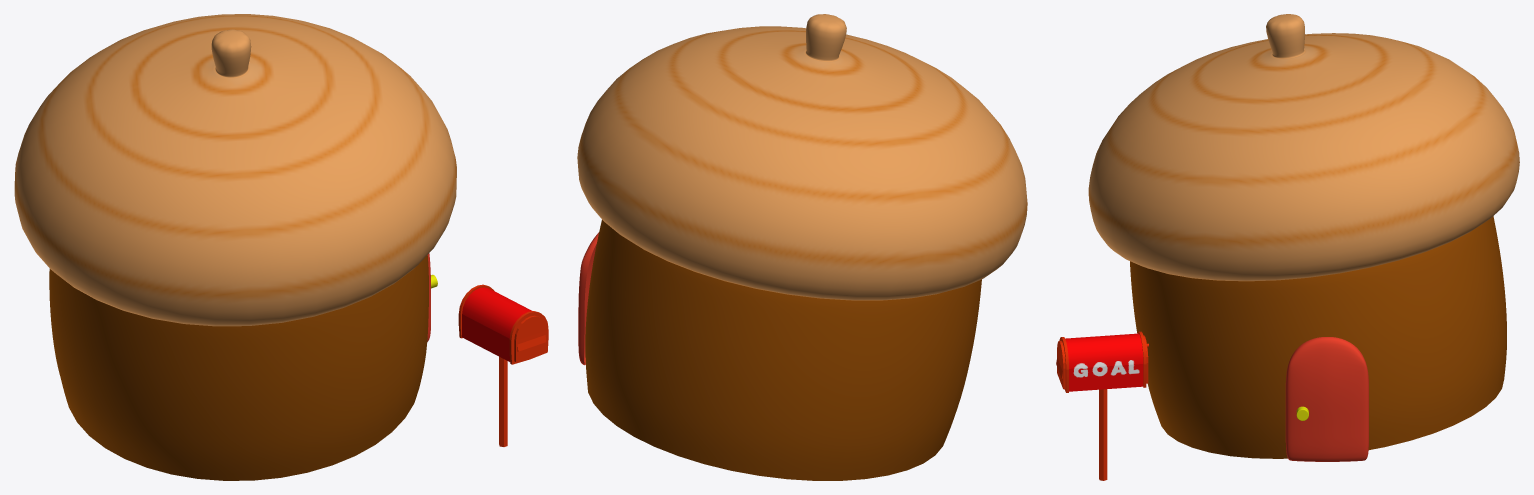
File: donguri.fbx
3 renders of one model, left to right at view 1: azimuth 30°, elevation 25°; view 2: azimuth 150°, elevation 25°; view 3: azimuth 270°, elevation 25°, orthographic. The views are drawn at different scales.
Visible parts, largest first — view 1: pSphere2, pCylinder6; view 2: pSphere2; view 3: pSphere2, pCylinder6.
Part boxes in pixels (x1,y1,x2,y2): pSphere2: [14, 14, 456, 480]; pCylinder6: [458, 284, 548, 446]; pSphere2: [577, 14, 1027, 480]; pSphere2: [1088, 14, 1519, 461]; pCylinder6: [1056, 331, 1148, 480].
Bounding box in the file's own units: 1.15 × 1.13 × 1.22.
Materials: 5 (2 with a texture image).
